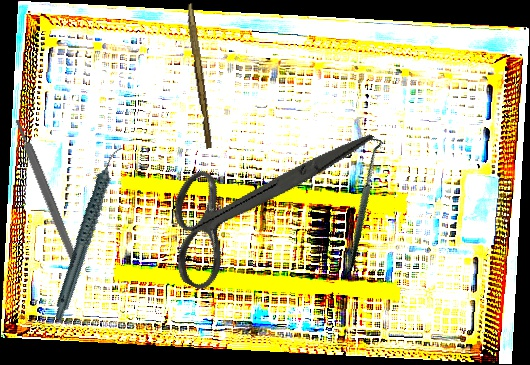Handpiece: (21, 144, 156, 321)
Hook Surgical: (295, 131, 427, 270)
Iris Scissors: (143, 68, 375, 330)
Scalpel Handle: (12, 117, 82, 269), (182, 3, 216, 149)
